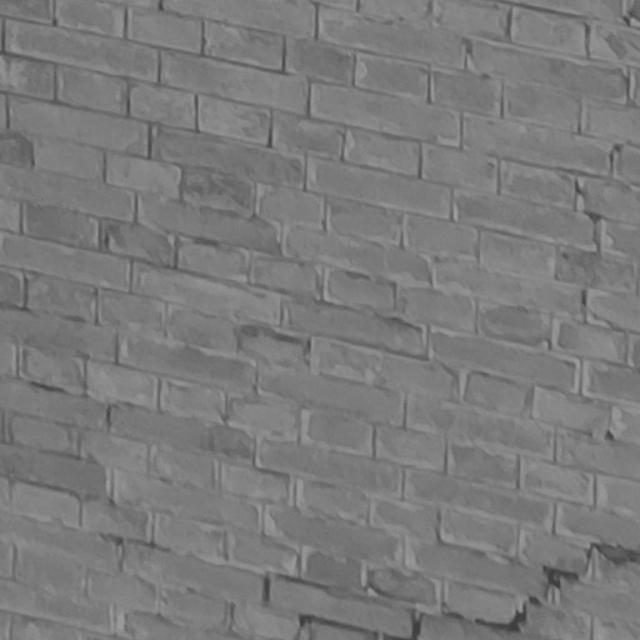crack: (297, 542, 640, 639)
